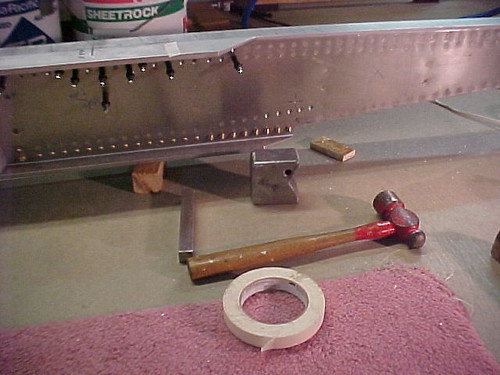hammer: (187, 188, 427, 285)
